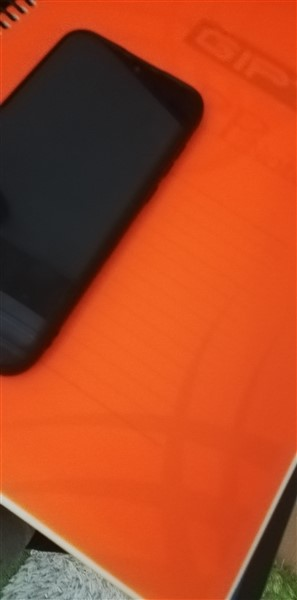telefon: (1, 22, 217, 382)
